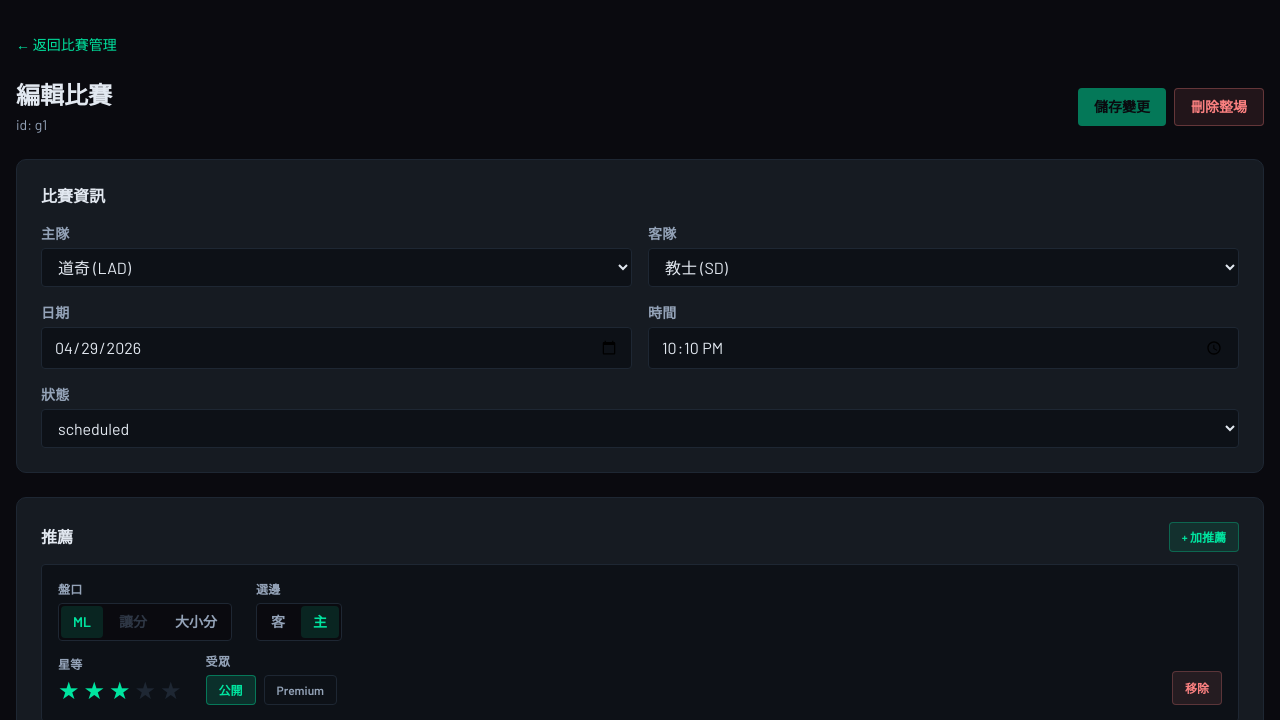
it: EditGamePage — form mode › clicking 取消刪除 reverts the soft-delete
Step 1. Click the button "移除" → (1197, 688), box [1172,671,1222,705]
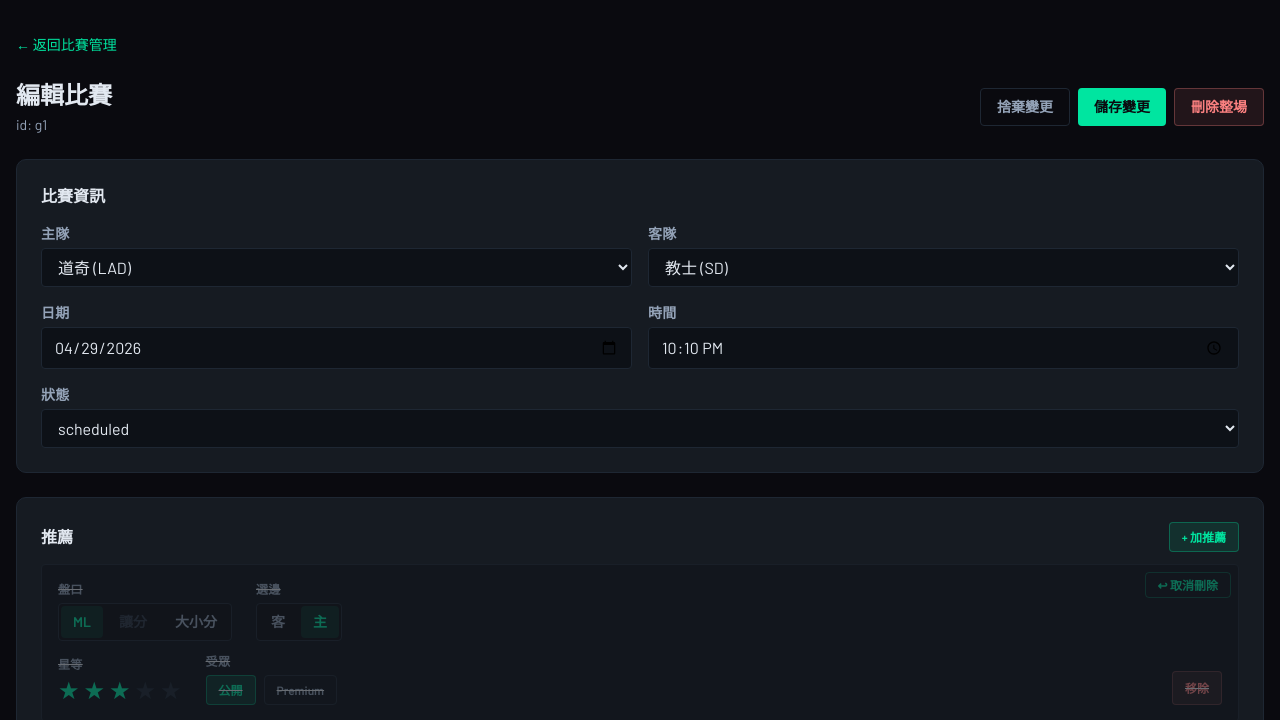
Step 2. Click the button "↩ 取消刪除" → (1188, 585), box [1144,572,1231,598]
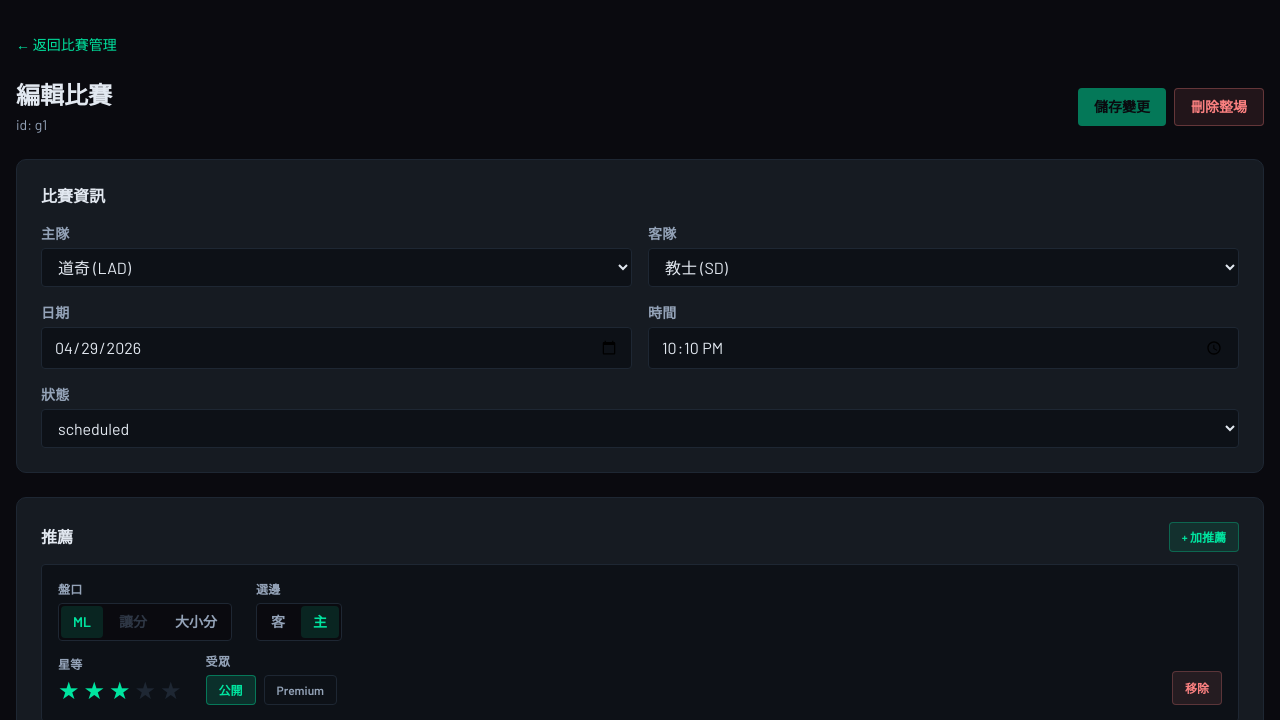
Expected: the button "取消刪除" is gone
